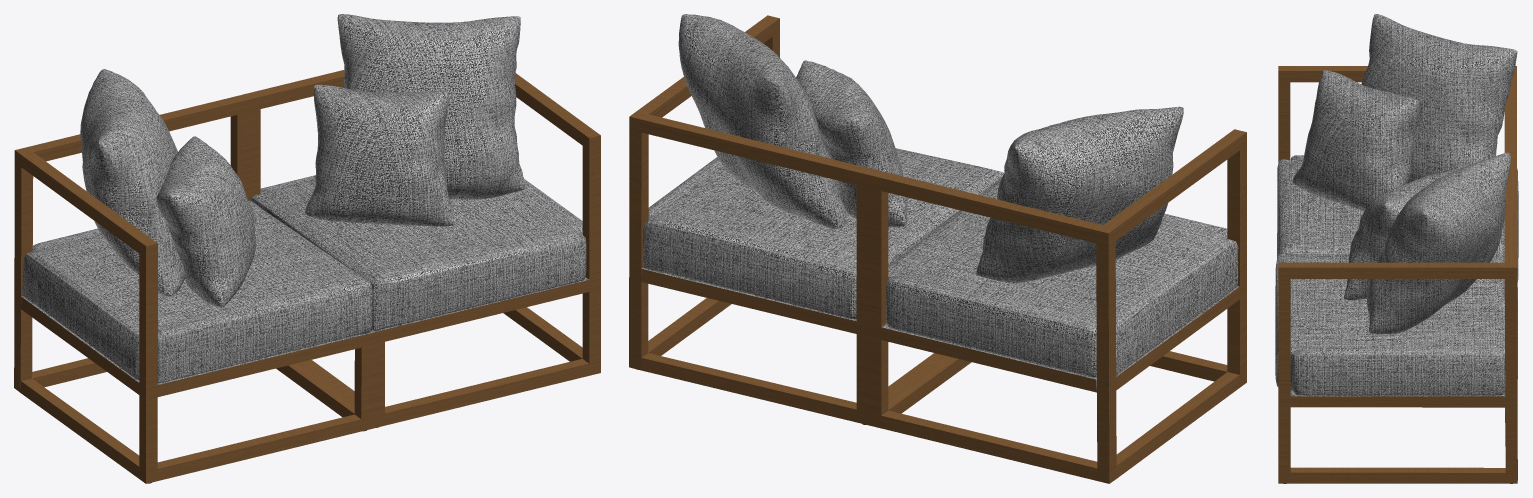
3 views of the same model, side by side, from view 1: azimuth 30°, elevation 25°; view 2: azimuth 150°, elevation 25°; view 3: azimuth 270°, elevation 25° (orthographic). The views are drawn at different scales.
Parts seen in each view (by area): view 1: C-skp361.001, C-skp361; view 2: C-skp361.001, C-skp361; view 3: C-skp361, C-skp361.001.
Part boxes in pixels (left/top/right/bottom): C-skp361.001: left=14, top=69, right=373, bottom=483; C-skp361: left=242, top=14, right=600, bottom=428; C-skp361.001: left=869, top=106, right=1246, bottom=483; C-skp361: left=629, top=14, right=1003, bottom=425; C-skp361: left=1275, top=152, right=1517, bottom=483; C-skp361.001: left=1277, top=14, right=1518, bottom=281.
Bounding box in the file's own units: 1.27 × 0.7963 × 0.6418.
Materials: 3 (2 with a texture image).
